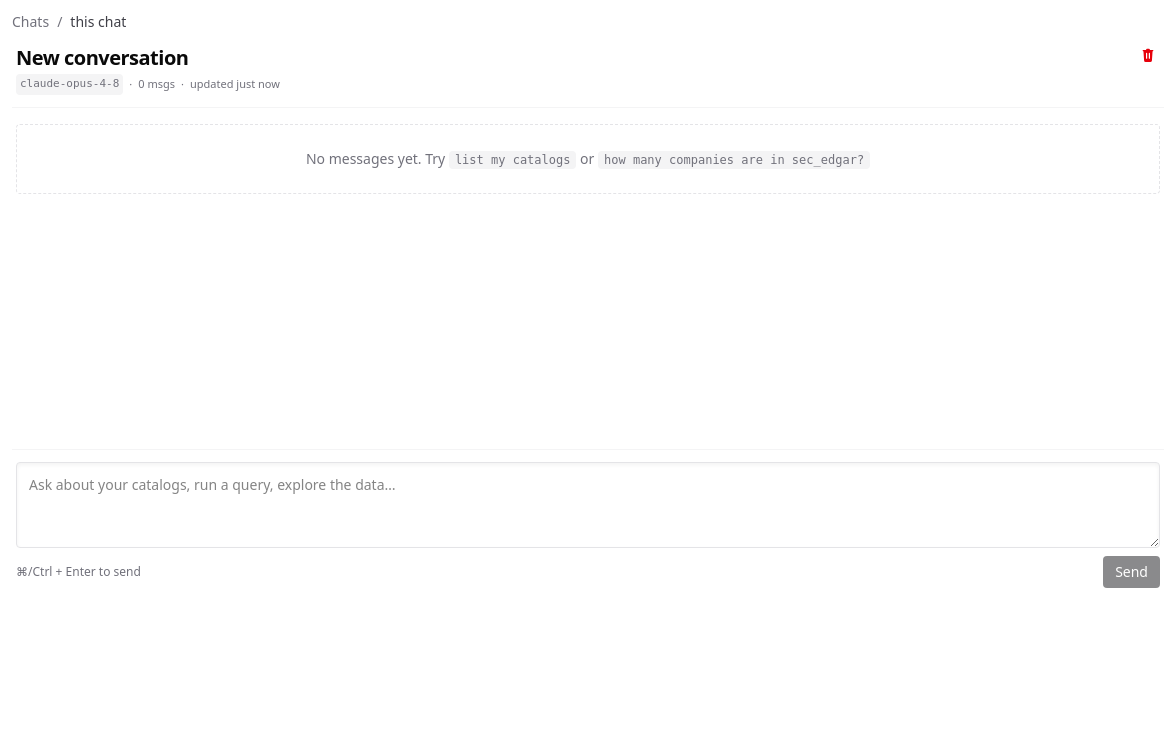
Test: ChatDetail › title_updated event optimistically updates the header title
Expected: the heading reads "New conversation", [16,44,188,71]
In the text box with test id "message-input": (588, 505) [16,462,1160,548], type "Hi"
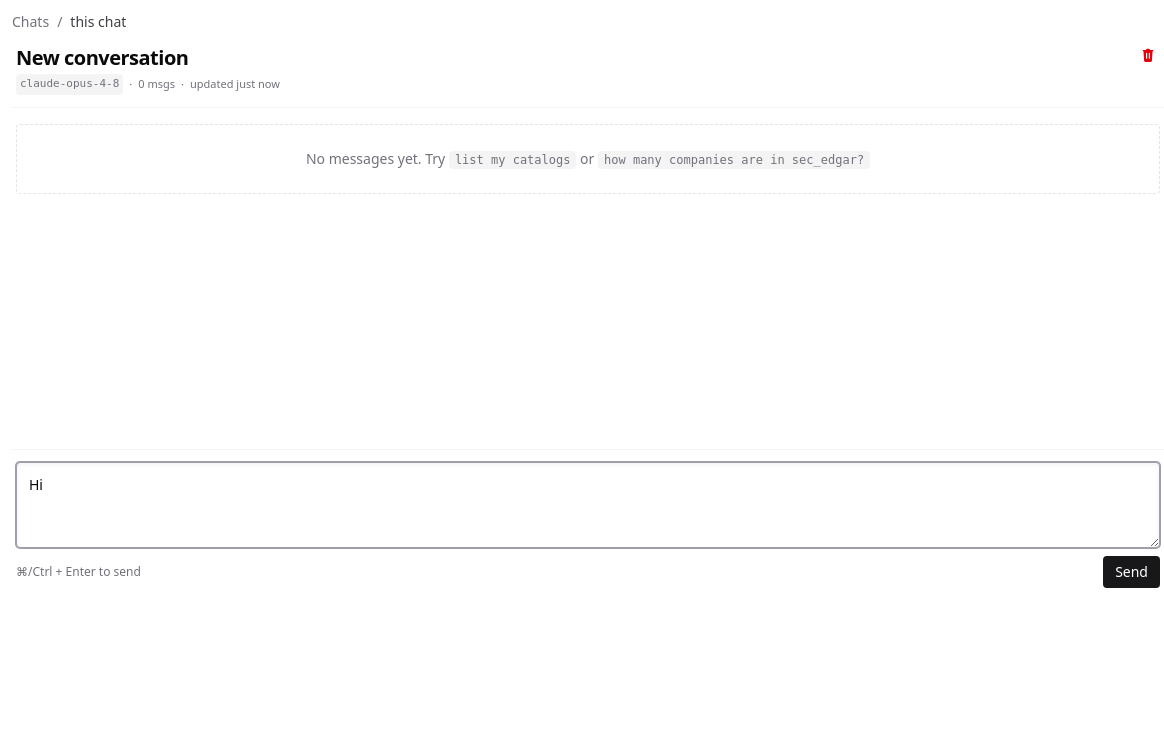
Click the button with test id "send-button": (1132, 572) [1103,556,1160,588]
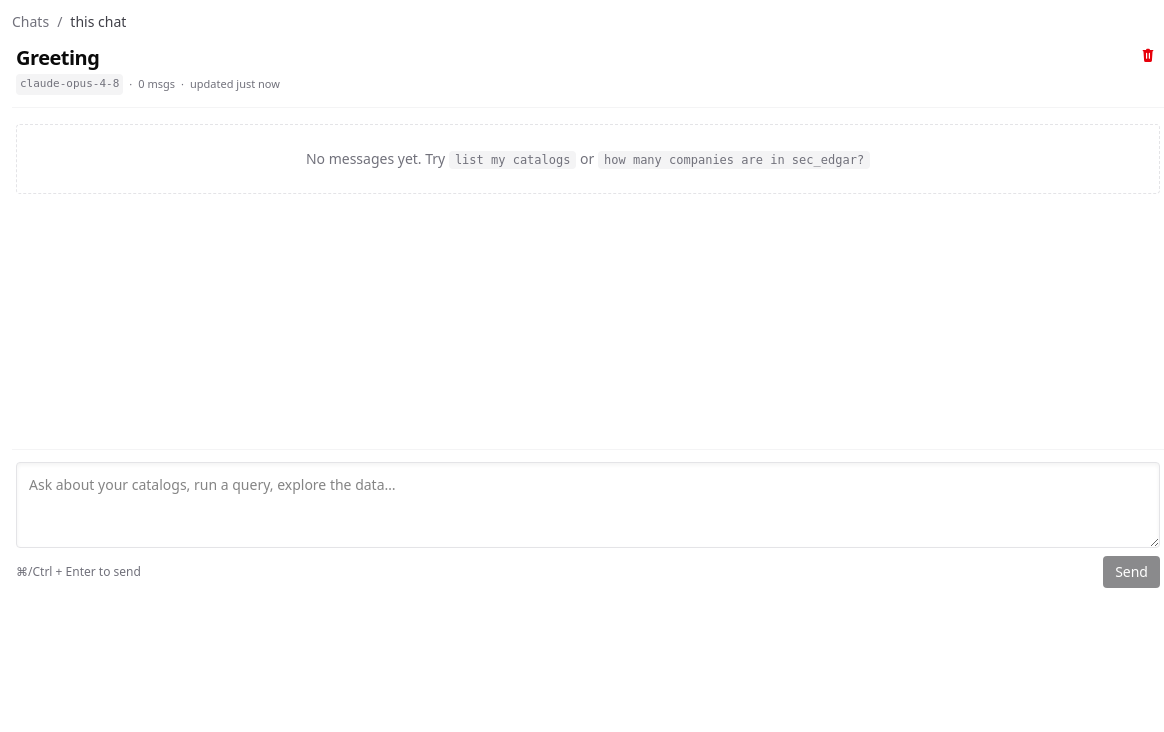
Expected: the heading reads "Greeting", [16,44,99,71]
